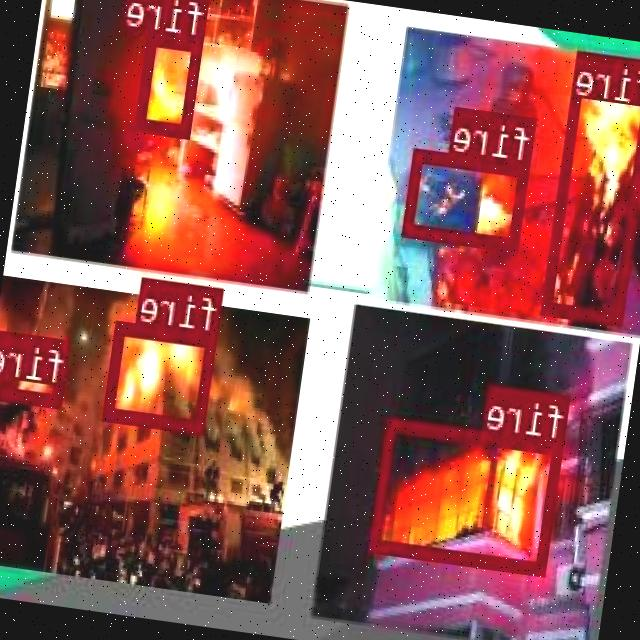fire: (372, 418, 565, 572), (543, 47, 640, 324), (404, 146, 532, 250), (107, 320, 218, 430), (138, 31, 205, 137), (3, 330, 73, 405)
